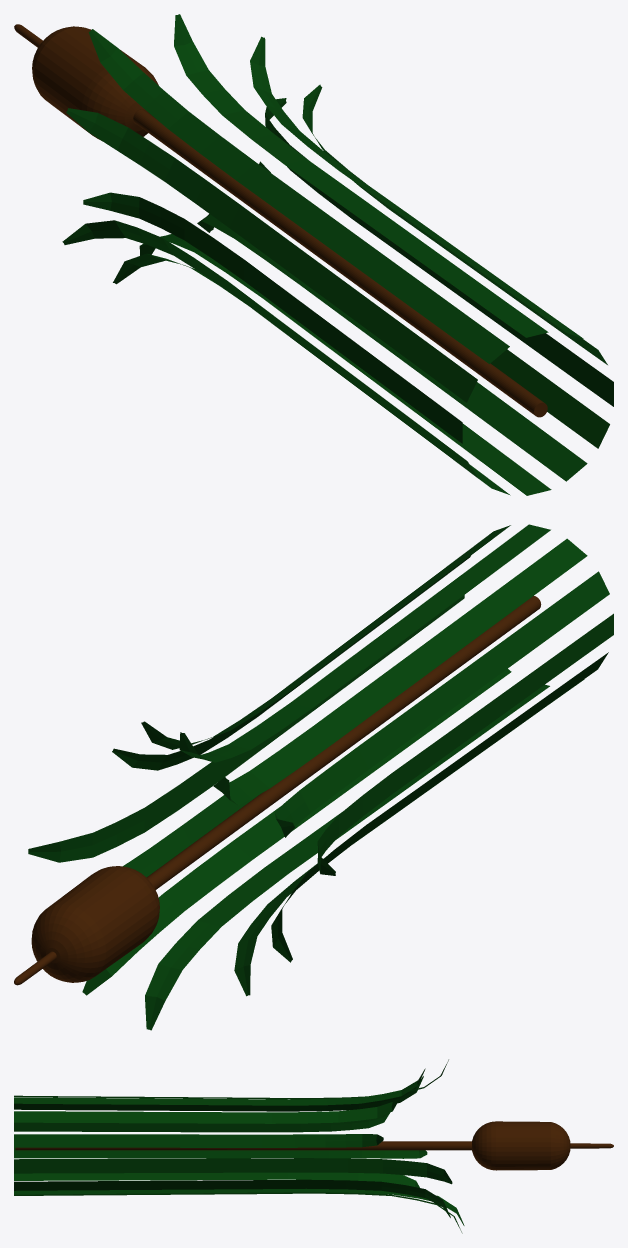
Rendered from LyReed.fbx.
The picture shows the model from 3 angles, top to bottom: view 1: azimuth 30°, elevation 25°; view 2: azimuth 150°, elevation 25°; view 3: azimuth 270°, elevation 25°; orthographic projection. The views are drawn at different scales.
Parts seen in each view (by area): view 1: LyReed; view 2: LyReed; view 3: LyReed.
Boxes of the visible parts, box(x1,y1,x2,y2) form: LyReed: box(14, 14, 613, 495); LyReed: box(14, 524, 613, 1030); LyReed: box(14, 1059, 613, 1233).
Bounding box in the file's own units: 97.18 × 99.49 × 344.
